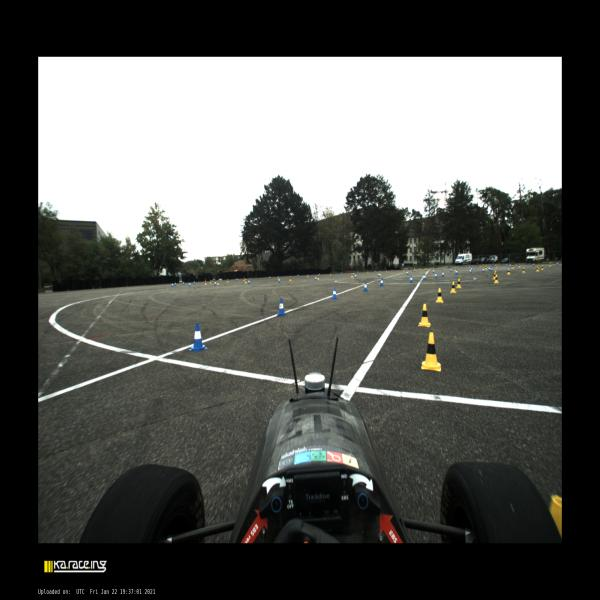blue_cone: (188, 323, 207, 351), (277, 298, 286, 316), (332, 288, 338, 300), (363, 282, 368, 292), (380, 278, 384, 286), (434, 272, 438, 279), (410, 275, 413, 283), (423, 274, 427, 280), (432, 268, 435, 274), (455, 269, 458, 275), (469, 268, 472, 274), (490, 266, 493, 272), (214, 280, 217, 286), (488, 266, 491, 271), (406, 271, 409, 275), (442, 271, 444, 277), (482, 268, 485, 272), (171, 283, 174, 287), (247, 280, 250, 284), (354, 274, 357, 278), (315, 275, 317, 281), (378, 272, 380, 277), (278, 278, 280, 283), (470, 268, 473, 271), (450, 268, 452, 272), (174, 282, 176, 286), (189, 282, 191, 286), (556, 262, 558, 266), (269, 276, 271, 279), (297, 274, 299, 277), (236, 278, 238, 281), (510, 264, 512, 267), (374, 270, 376, 273), (319, 273, 321, 276), (183, 281, 184, 285), (211, 280, 213, 282), (516, 264, 518, 266), (442, 266, 443, 270), (194, 281, 195, 284), (533, 263, 534, 266), (506, 264, 507, 266), (341, 272, 342, 274), (472, 265, 473, 267), (419, 268, 420, 270), (457, 266, 458, 268), (442, 267, 443, 269), (392, 269, 392, 272), (358, 270, 358, 274)
yellow_cone: (422, 332, 441, 372), (418, 304, 431, 327), (436, 288, 444, 303), (450, 281, 456, 293), (456, 278, 462, 288), (494, 275, 500, 284), (506, 269, 511, 275), (493, 270, 496, 280), (522, 267, 526, 273), (536, 266, 539, 272), (541, 265, 544, 271), (289, 276, 292, 281), (317, 275, 320, 280), (379, 271, 382, 276), (511, 265, 514, 269), (245, 278, 247, 284), (538, 264, 540, 270), (217, 280, 219, 285), (226, 278, 228, 283), (351, 273, 353, 278), (549, 262, 551, 267), (518, 264, 520, 268), (277, 275, 279, 279), (210, 280, 212, 284), (367, 270, 369, 274), (403, 268, 405, 272), (454, 267, 456, 271), (485, 266, 487, 270), (488, 264, 490, 268), (205, 279, 206, 285), (243, 278, 245, 281), (307, 274, 309, 277), (469, 265, 471, 268), (330, 272, 331, 276), (420, 268, 422, 270), (444, 266, 445, 270), (455, 266, 457, 268), (480, 264, 481, 268), (483, 264, 484, 268), (353, 271, 354, 274), (425, 269, 426, 272), (496, 265, 497, 268), (386, 270, 387, 272), (487, 265, 488, 267)
